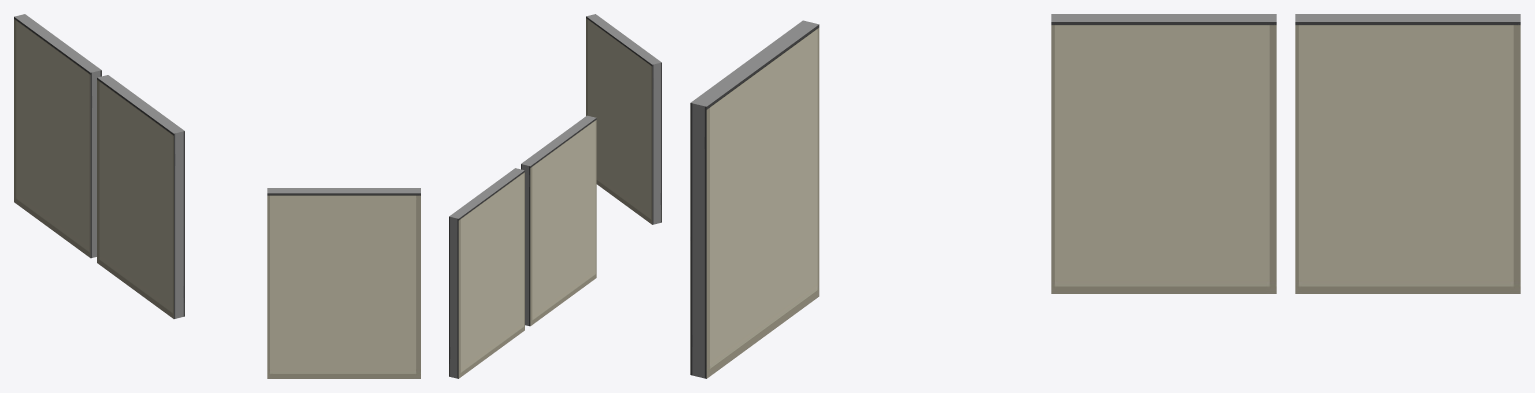
Rendered from ToiletDoors.fbx.
3 views of the same model, side by side, from view 1: azimuth 30°, elevation 25°; view 2: azimuth 150°, elevation 25°; view 3: azimuth 270°, elevation 25° (orthographic). The views are drawn at different scales.
Visible parts, largest first — view 1: StallDoor.003, StallDoor.002, StallDoor.001; view 2: StallDoor.001, StallDoor.002, StallDoor.003; view 3: StallDoor.002, StallDoor.001, StallDoor.003.
Part boxes in pixels (x1=…): StallDoor.003: x1=267, y1=188, x2=420, y2=378; StallDoor.002: x1=97, y1=75, x2=184, y2=318; StallDoor.001: x1=14, y1=14, x2=101, y2=258; StallDoor.001: x1=449, y1=168, x2=524, y2=378; StallDoor.002: x1=521, y1=115, x2=596, y2=326; StallDoor.003: x1=586, y1=14, x2=661, y2=224; StallDoor.002: x1=1051, y1=14, x2=1276, y2=293; StallDoor.001: x1=1295, y1=14, x2=1520, y2=293; StallDoor.003: x1=690, y1=20, x2=819, y2=378.
Bounding box in the file's own units: 117 × 160 × 442.
1 material, 1 textured.
